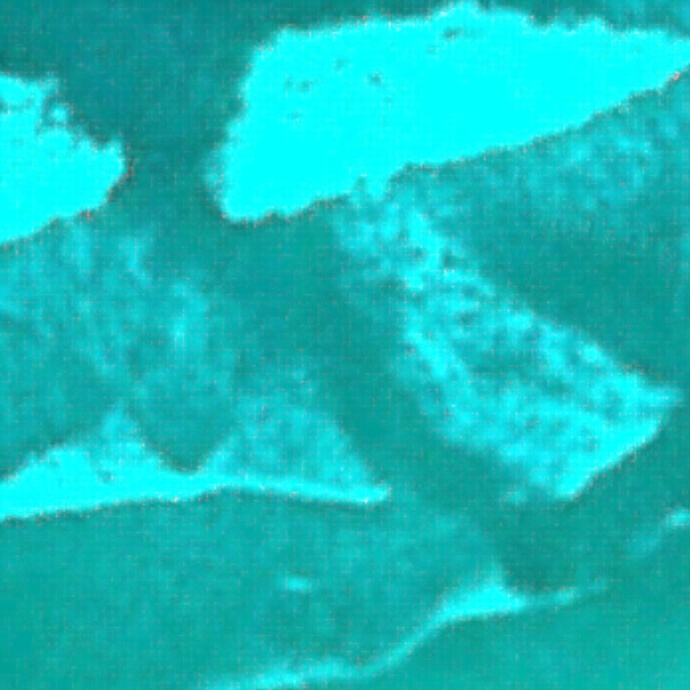rip_current: (120, 176, 569, 586)
